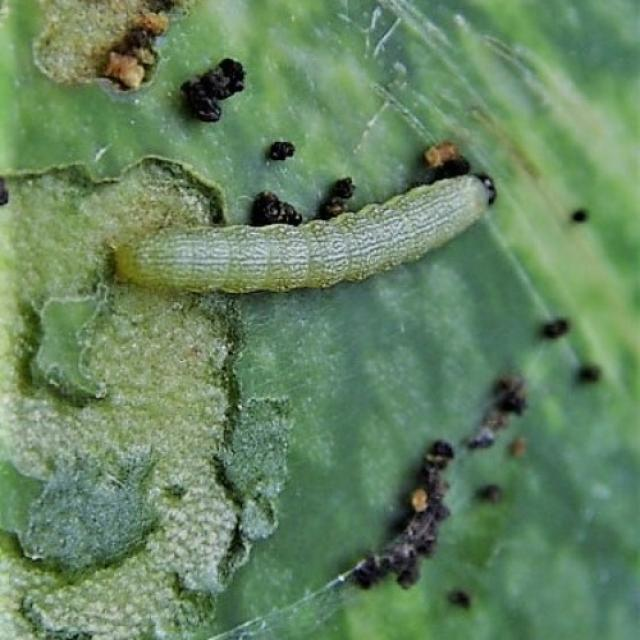armyworm: (110, 168, 497, 296)
